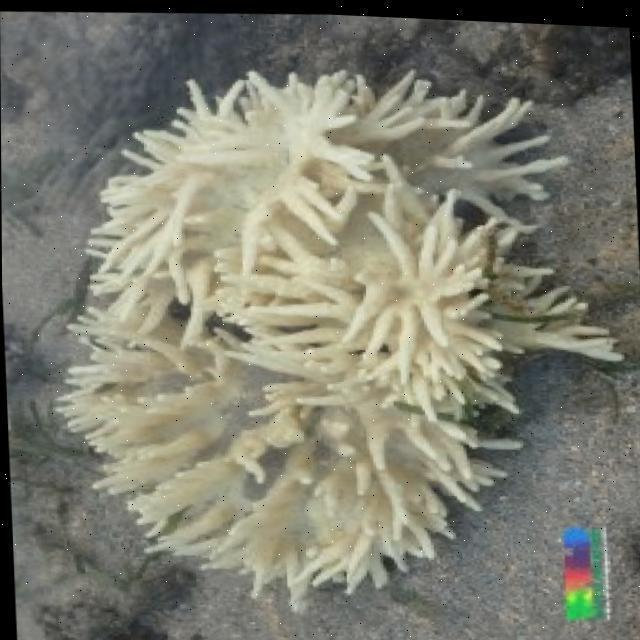Bleached Coral: (62, 36, 640, 609)
